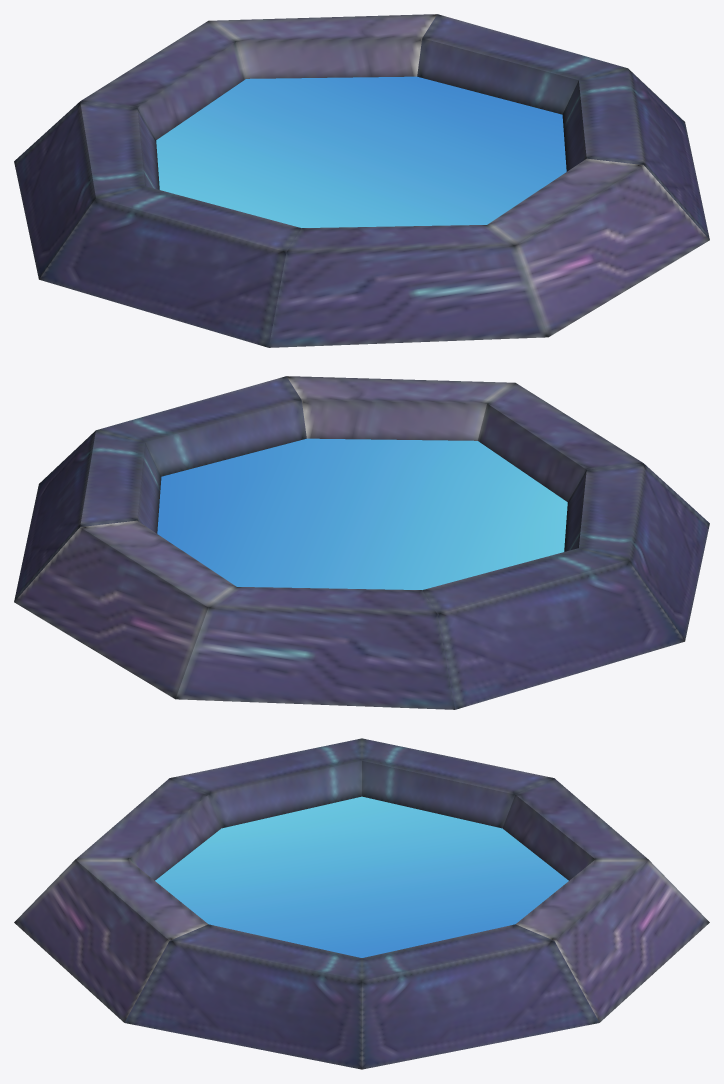
File: menuballhover.glb
3 renders of one model, top to bottom at view 1: azimuth 30°, elevation 25°; view 2: azimuth 150°, elevation 25°; view 3: azimuth 270°, elevation 25°, orthographic. The views are drawn at different scales.
Visible parts, largest first — view 1: Cylinder; view 2: Cylinder; view 3: Cylinder.
Part boxes in pixels (box(x1,y1,x2,y2)): Cylinder: box(14, 14, 709, 347); Cylinder: box(14, 376, 709, 709); Cylinder: box(14, 738, 709, 1069).
Size of the model in its own units: 2.5 by 0.25 by 2.5.
1 material, 1 textured.
